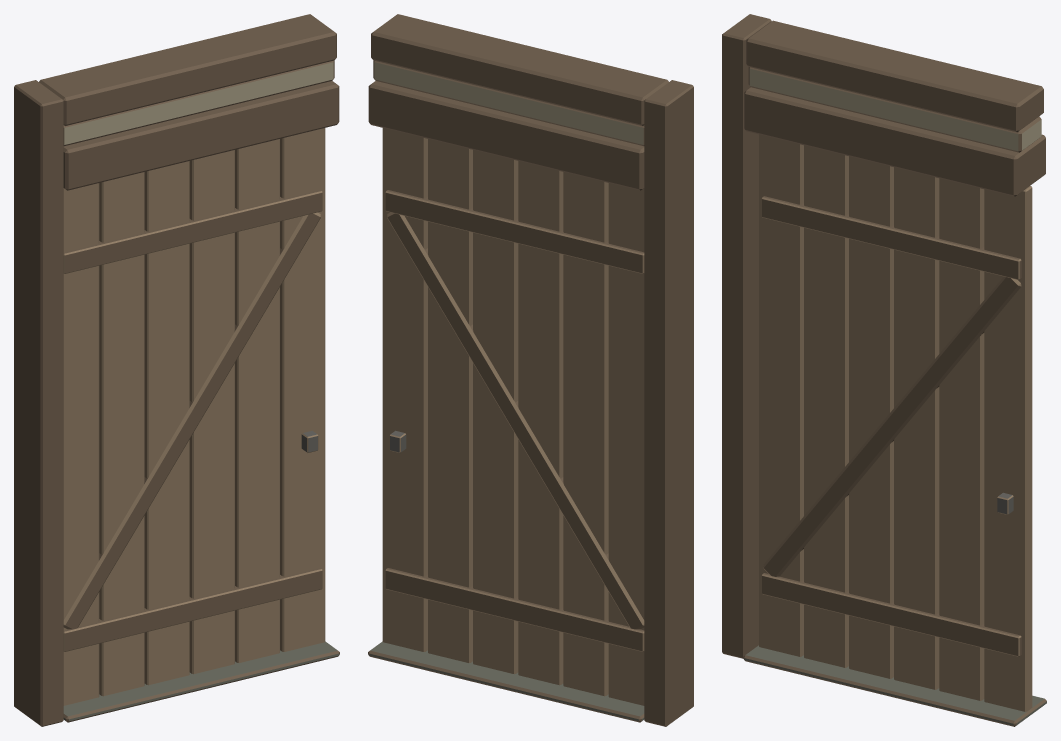
The model's file is gate_left.glb.
3 renders of one model, left to right at view 1: azimuth 30°, elevation 25°; view 2: azimuth 150°, elevation 25°; view 3: azimuth 330°, elevation 25°, orthographic.
Parts seen in each view (by area): view 1: Gate_Left_L, Gate_Left_Frame; view 2: Gate_Left_L, Gate_Left_Frame; view 3: Gate_Left_L, Gate_Left_Frame.
Part boxes in pixels (x1=…): Gate_Left_L: x1=63, y1=128, x2=325, y2=705; Gate_Left_Frame: x1=14, y1=14, x2=339, y2=726; Gate_Left_L: x1=382, y1=128, x2=644, y2=705; Gate_Left_Frame: x1=368, y1=14, x2=693, y2=726; Gate_Left_L: x1=759, y1=134, x2=1032, y2=711; Gate_Left_Frame: x1=722, y1=14, x2=1046, y2=726.
Size of the model in its own units: 1.52 by 3.05 by 0.29.
